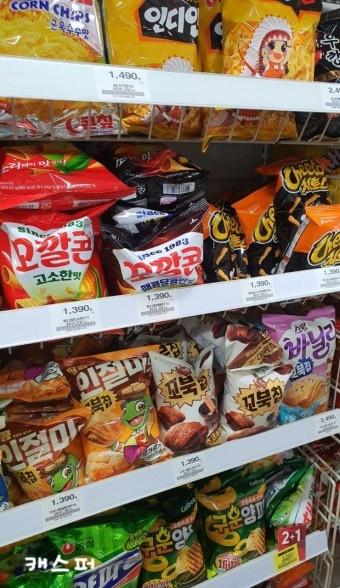snack: (58, 342, 177, 486), (147, 345, 225, 459)
